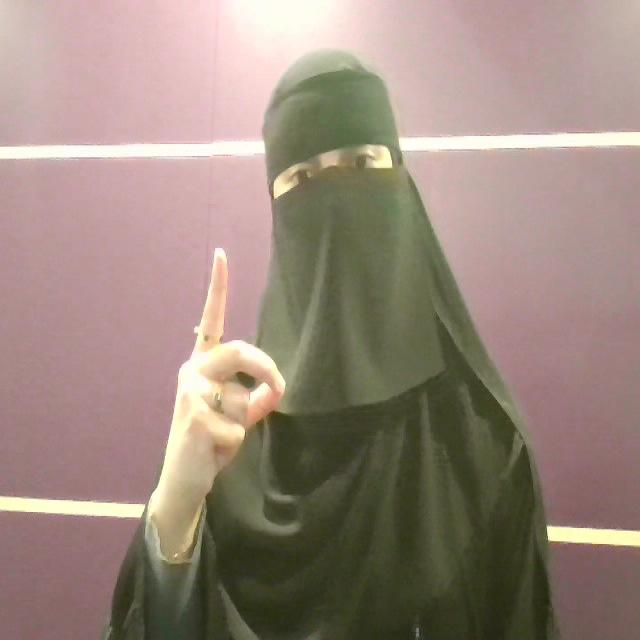emergency: (152, 243, 289, 525)
